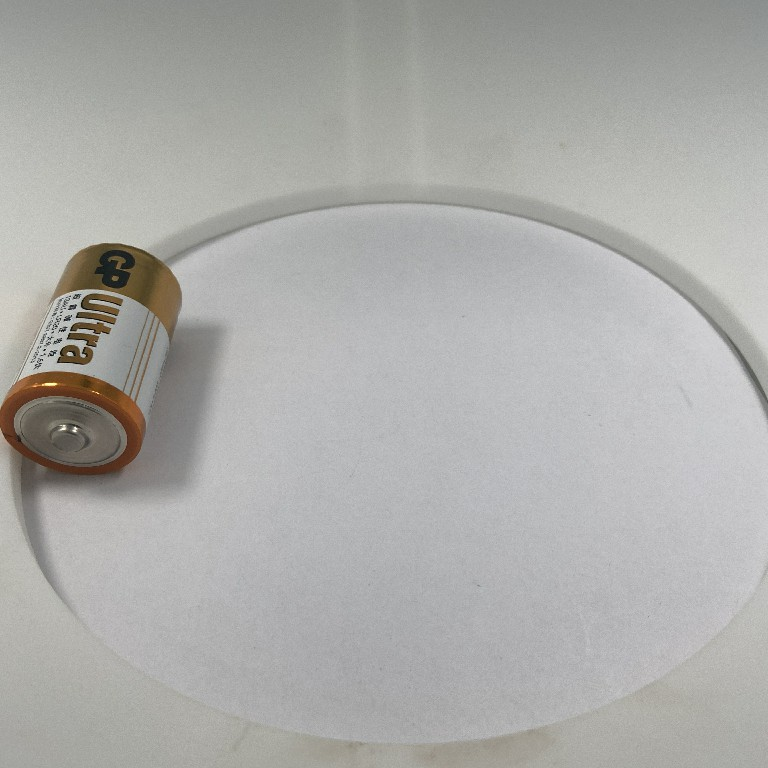charge: (1, 239, 185, 478)
